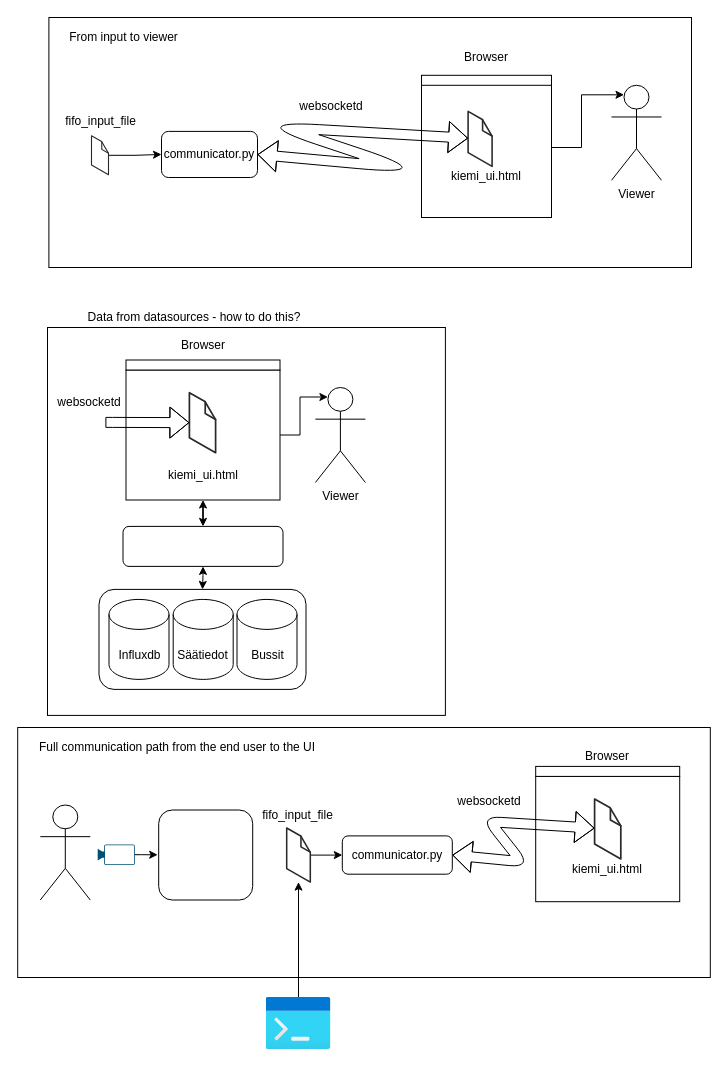
Some shapes in this 728 by 1067 pixel diagram are drawn without their labels. Each missing label, with the centre of its shape:
Actor: the point at 64,852
Data API layer: the point at 202,545
Sensor data Tensorflow ?: the point at 205,854
